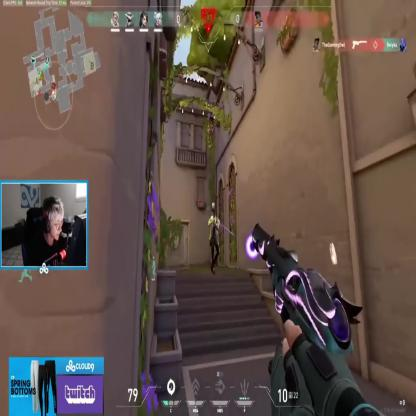enemy: (208, 213, 220, 275)
enemy_head: (213, 212, 216, 218)
